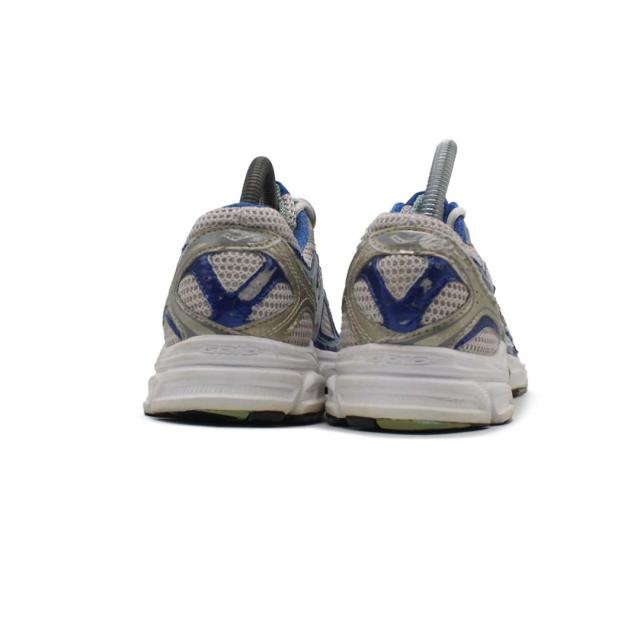heel: (163, 200, 319, 346), (337, 207, 492, 351)
midsole: (141, 341, 331, 417), (325, 347, 508, 425)
